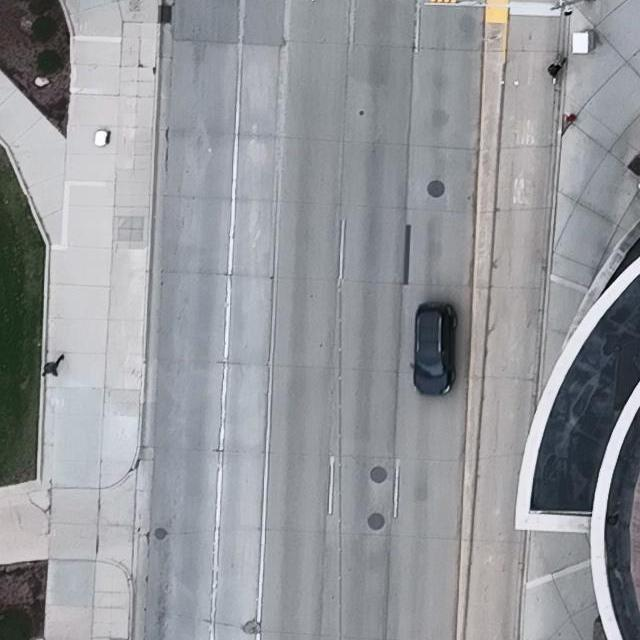car: (409, 301, 457, 397)
